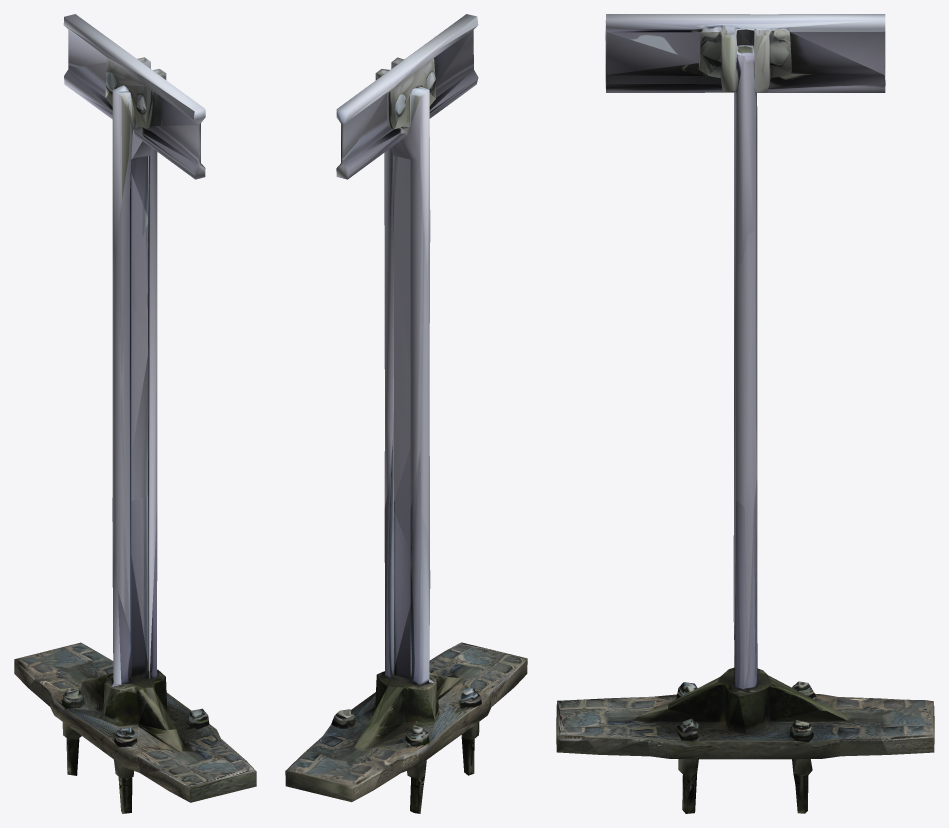
The model's file is quit.fbx.
3 views of the same model, side by side, from view 1: azimuth 30°, elevation 25°; view 2: azimuth 150°, elevation 25°; view 3: azimuth 270°, elevation 25° (orthographic). The views are drawn at different scales.
Visible parts, largest first — view 1: tripo_node_0dff0815; view 2: tripo_node_0dff0815; view 3: tripo_node_0dff0815.
Boxes of the visible parts, x1=… form: tripo_node_0dff0815: x1=14, y1=14, x2=256, y2=813; tripo_node_0dff0815: x1=285, y1=14, x2=527, y2=813; tripo_node_0dff0815: x1=556, y1=14, x2=934, y2=813.
Size of the model in its own units: 13.4 by 100 by 44.15.
Materials: 1 (1 with a texture image).
